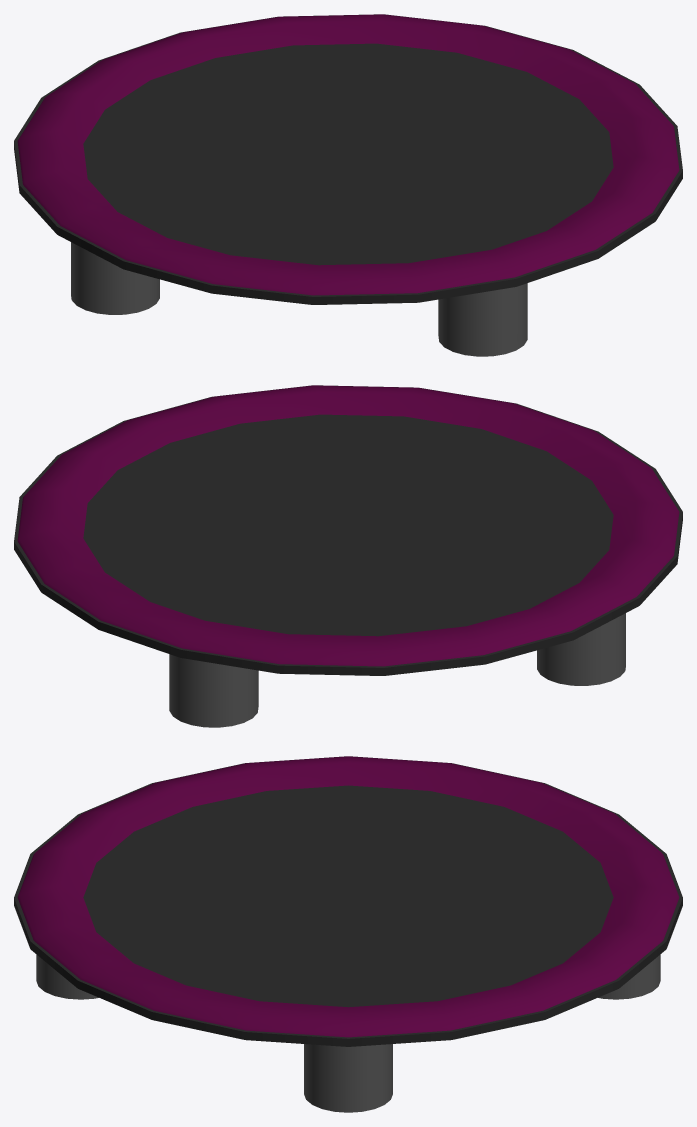
File: Trampoline.fbx
3 renders of one model, top to bottom at view 1: azimuth 30°, elevation 25°; view 2: azimuth 150°, elevation 25°; view 3: azimuth 270°, elevation 25°, orthographic.
Visible parts, largest first — view 1: pCylinder5, pTorus1, pCylinder1, pCylinder4; view 2: pCylinder5, pTorus1, pCylinder2, pCylinder4; view 3: pCylinder5, pTorus1, pCylinder3, pCylinder1, pCylinder2.
Part boxes in pixels (left/top/right/bottom): pCylinder5: left=14, top=14, right=682, bottom=304; pTorus1: left=17, top=14, right=679, bottom=295; pCylinder1: left=438, top=283, right=527, bottom=356; pCylinder4: left=71, top=242, right=159, bottom=314; pCylinder5: left=14, top=385, right=682, bottom=675; pTorus1: left=17, top=385, right=679, bottom=666; pCylinder2: left=169, top=654, right=258, bottom=727; pCylinder4: left=537, top=613, right=625, bottom=685; pCylinder5: left=14, top=756, right=682, bottom=1046; pTorus1: left=17, top=756, right=679, bottom=1037; pCylinder3: left=304, top=1044, right=392, bottom=1112; pCylinder1: left=36, top=954, right=98, bottom=999; pCylinder2: left=598, top=954, right=660, bottom=999.
Bounding box in the file's own units: 15 × 2.36 × 15.
